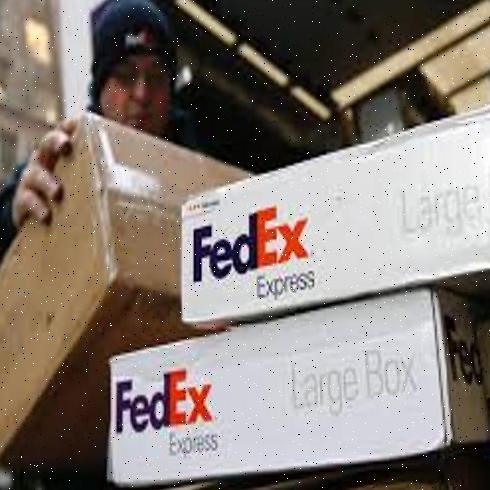FedEx: (180, 97, 490, 308), (109, 329, 471, 475)
